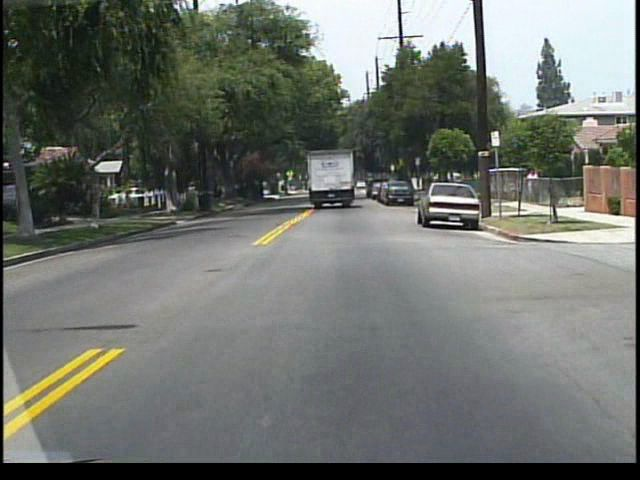person: (524, 164, 540, 201)
